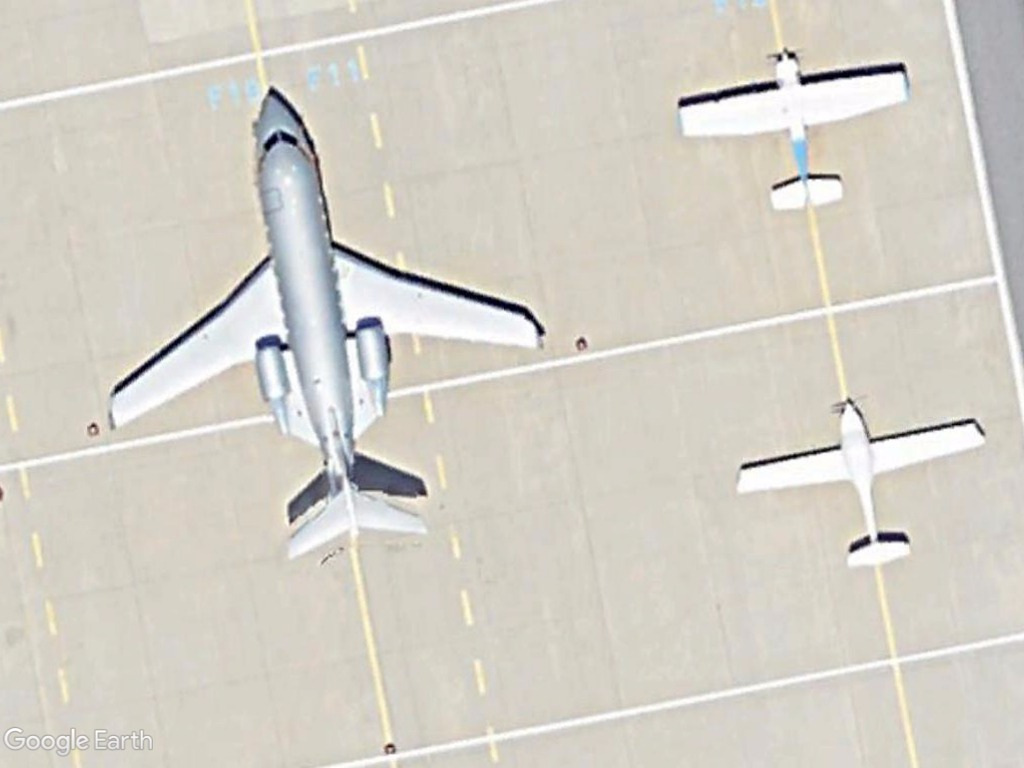chartered: (97, 80, 557, 566)
trainer: (733, 392, 990, 576), (674, 46, 915, 219)
